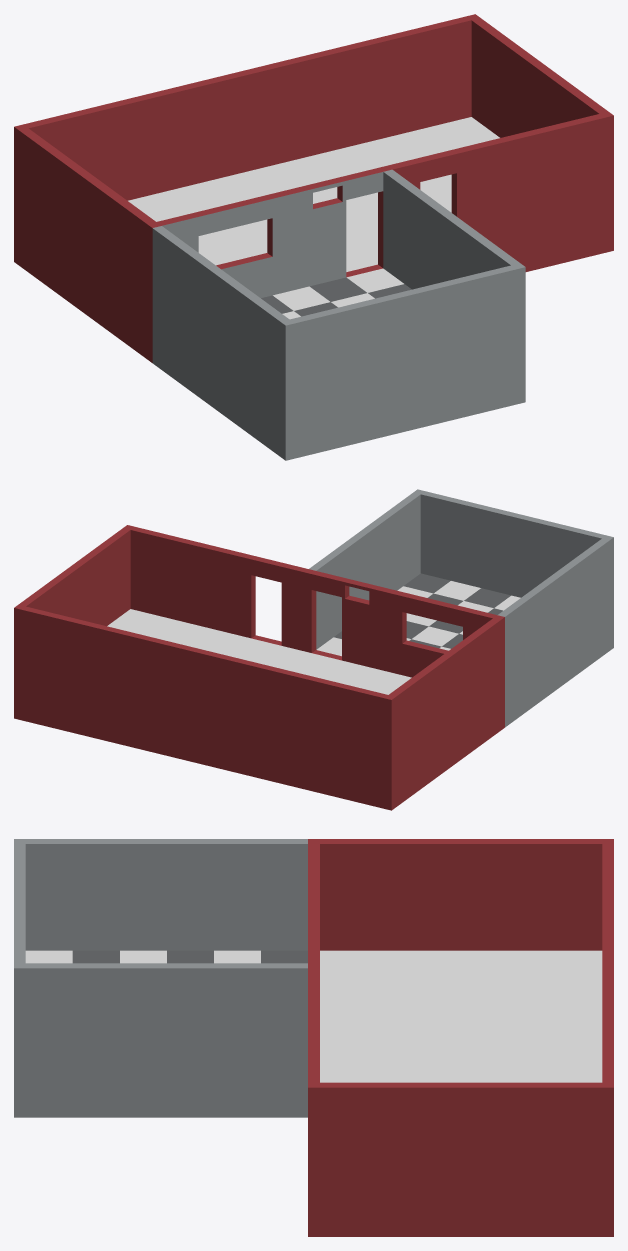
File: Map.fbx
3 renders of one model, top to bottom at view 1: azimuth 30°, elevation 25°; view 2: azimuth 150°, elevation 25°; view 3: azimuth 270°, elevation 25°, orthographic. The views are drawn at different scales.
Visible parts, largest first — view 1: Main, Main.002, Main.001, WallRestaurant, WallKitchen; view 2: Main, Main.001, Main.002, WallKitchen, WallRestaurant; view 3: Main, WallRestaurant, Main.001, Main.002, WallKitchen.
Boxes of the visible parts, x1=… form: Main: x1=14, y1=14, x2=613, y2=460; Main.002: x1=19, y1=128, x2=155, y2=320; Main.001: x1=152, y1=226, x2=289, y2=417; WallRestaurant: x1=471, y1=18, x2=607, y2=137; WallKitchen: x1=383, y1=169, x2=519, y2=289; Main: x1=14, y1=489, x2=613, y2=810; Main.001: x1=497, y1=538, x2=609, y2=695; Main.002: x1=389, y1=618, x2=500, y2=775; WallKitchen: x1=309, y1=492, x2=420, y2=649; WallRestaurant: x1=19, y1=528, x2=130, y2=626; Main: x1=14, y1=839, x2=613, y2=1236; WallRestaurant: x1=320, y1=1082, x2=602, y2=1194; Main.001: x1=25, y1=839, x2=307, y2=950; Main.002: x1=320, y1=839, x2=602, y2=950; WallKitchen: x1=25, y1=963, x2=307, y2=1074.
Size of the model in its own units: 1250 by 350 by 1275.
